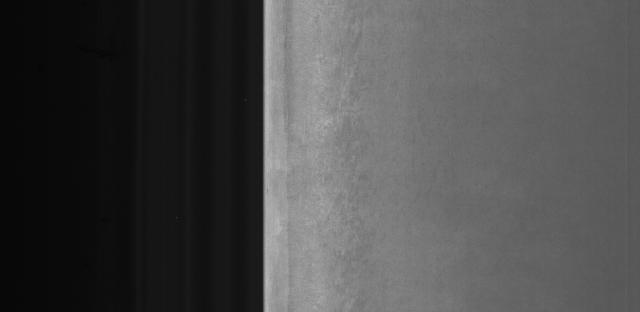silk_spot: (322, 40, 387, 215)
